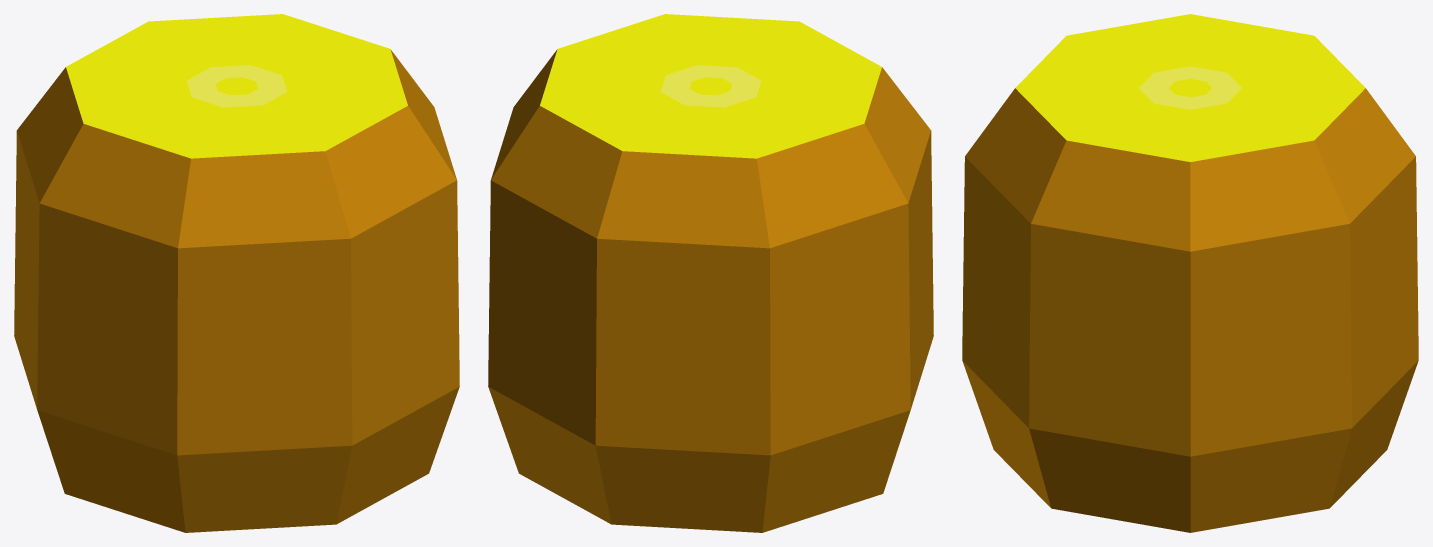
The model's file is pineapple02.obj.
3 views of the same model, side by side, from view 1: azimuth 30°, elevation 25°; view 2: azimuth 150°, elevation 25°; view 3: azimuth 270°, elevation 25° (orthographic).
Parts seen in each view (by area): view 1: Cylinder; view 2: Cylinder; view 3: Cylinder.
Boxes of the visible parts, x1,y1,x2,y2 form: Cylinder: (14, 14, 459, 532); Cylinder: (488, 14, 933, 532); Cylinder: (962, 14, 1418, 532).
Size of the model in its own units: 0.1403 by 0.1226 by 0.1403.
1 material, 1 textured.
